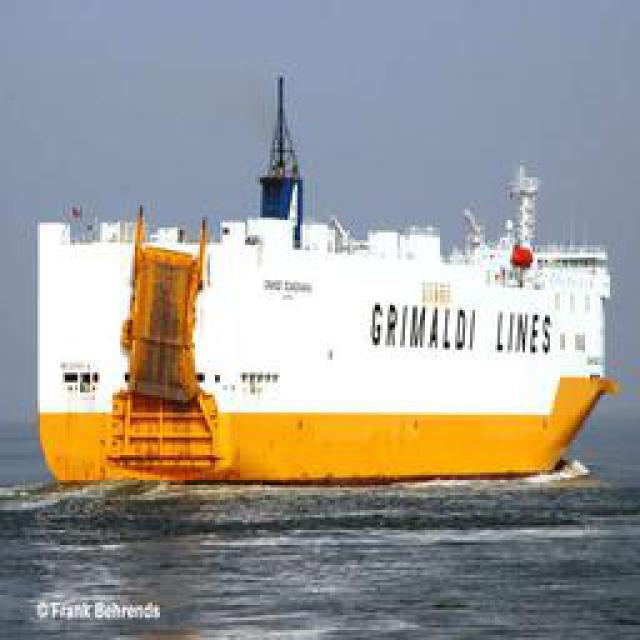Ship: (39, 76, 612, 496)
